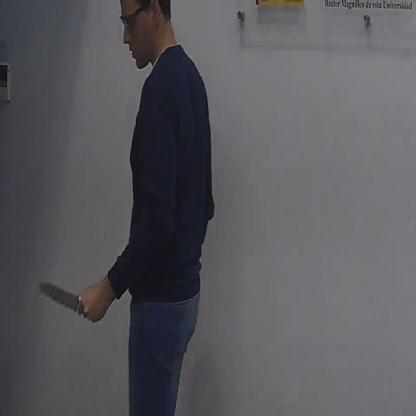knife: (32, 279, 94, 323)
